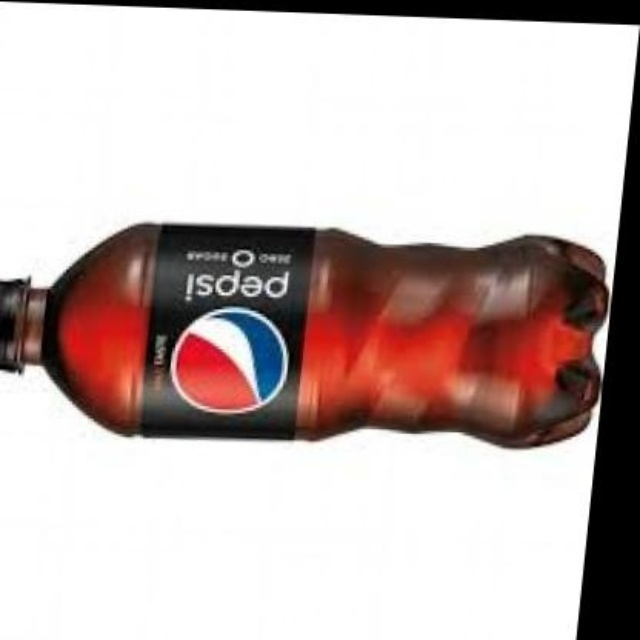trash: (0, 225, 606, 446)
